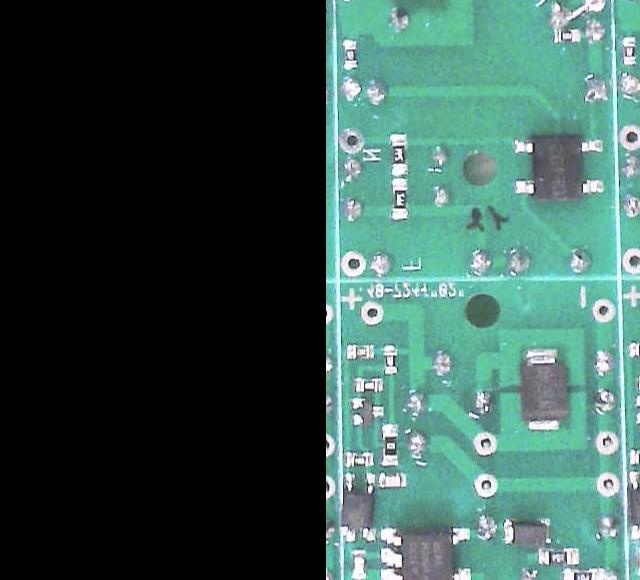chip-capacitor: (380, 473, 406, 486), (354, 551, 366, 578)
chip-resistor: (391, 133, 409, 174), (392, 177, 408, 218), (541, 548, 579, 565), (383, 426, 398, 462), (564, 568, 603, 580), (344, 39, 357, 67), (385, 346, 398, 373), (555, 29, 581, 42), (348, 343, 374, 356), (357, 378, 383, 391), (624, 36, 636, 64), (348, 452, 373, 465)
diode: (520, 348, 569, 431), (504, 519, 552, 544)
ic: (514, 134, 605, 199), (380, 525, 471, 580), (342, 471, 378, 543)
transistor: (353, 398, 383, 425)
